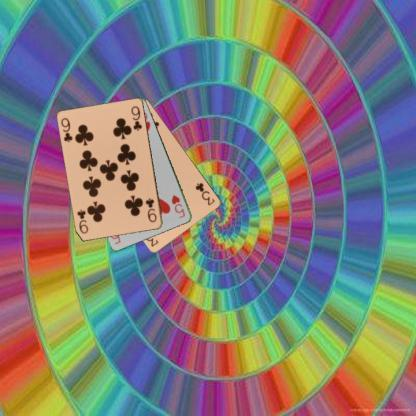3c: (193, 180, 216, 206)
5h: (169, 192, 187, 220)
9c: (58, 115, 74, 144), (144, 195, 158, 224)
